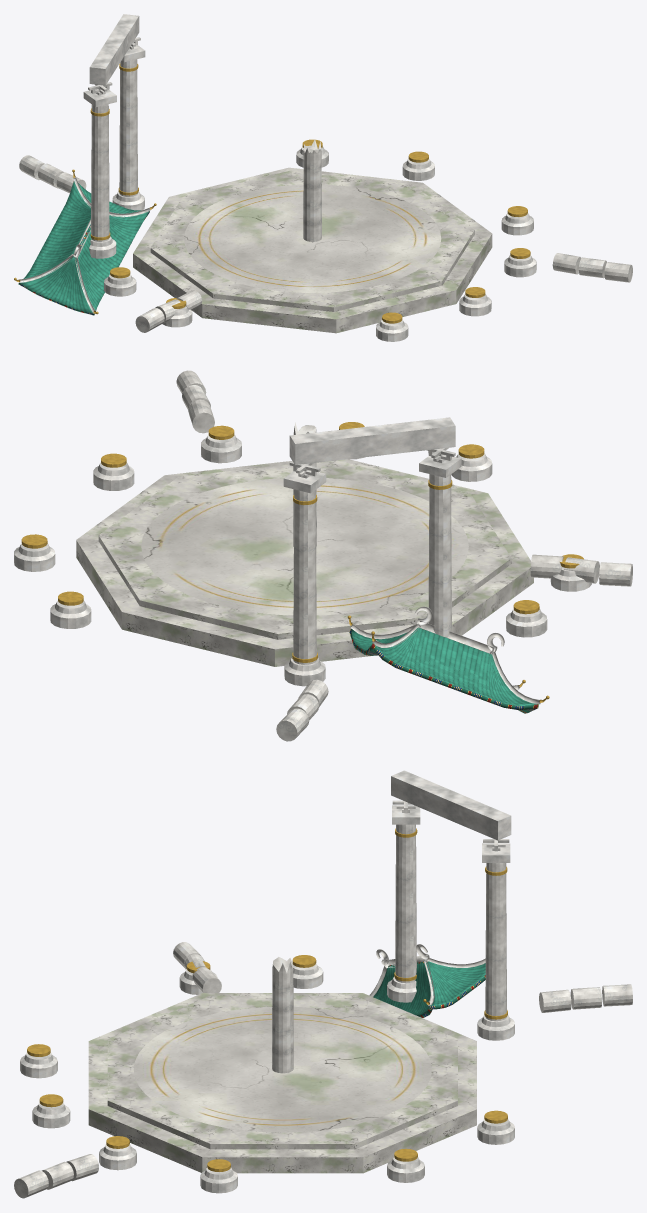
File: celestial_ruins.glb
3 renders of one model, top to bottom at view 1: azimuth 30°, elevation 25°; view 2: azimuth 150°, elevation 25°; view 3: azimuth 270°, elevation 25°, orthographic. The views are drawn at different scales.
Parts seen in each view (by area): view 1: RuinsDais, RuinsFloor, RuinsColumns, RuinsStone, FallenRoof, RuinsGoldBands, FallenRoofRidges; view 2: RuinsDais, RuinsFloor, RuinsStone, RuinsColumns, FallenRoof, RuinsGoldBands, FallenRoofRidges; view 3: RuinsDais, RuinsFloor, RuinsColumns, RuinsStone, FallenRoof, RuinsGoldBands, FallenRoofRidges.
Part boxes in pixels (x1,y1,x2,y2): RuinsDais: (133, 167, 492, 333); RuinsFloor: (184, 184, 441, 292); RuinsColumns: (19, 59, 632, 332); RuinsStone: (83, 14, 536, 341); FallenRoof: (18, 181, 149, 315); RuinsGoldBands: (90, 63, 530, 323); FallenRoofRidges: (19, 177, 150, 313); RuinsDais: (76, 459, 533, 666); RuinsFloor: (141, 478, 468, 615); RuinsStone: (14, 417, 591, 686); RuinsColumns: (176, 370, 632, 741); FallenRoof: (349, 627, 538, 713); RuinsGoldBands: (21, 422, 583, 662); FallenRoofRidges: (350, 606, 540, 704); RuinsDais: (88, 993, 476, 1173); RuinsFloor: (133, 1007, 431, 1132); RuinsColumns: (14, 824, 632, 1198); RuinsStone: (20, 770, 514, 1193); FallenRoof: (373, 961, 485, 1017); RuinsGoldBands: (27, 828, 507, 1171); FallenRoofRidges: (369, 944, 485, 1005).
Size of what is drawn, in the model's own units: 25.77 by 12.16 by 26.13.
Materials: 8 (8 with a texture image).
